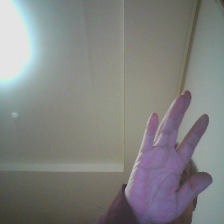hand: (121, 73, 217, 222)
